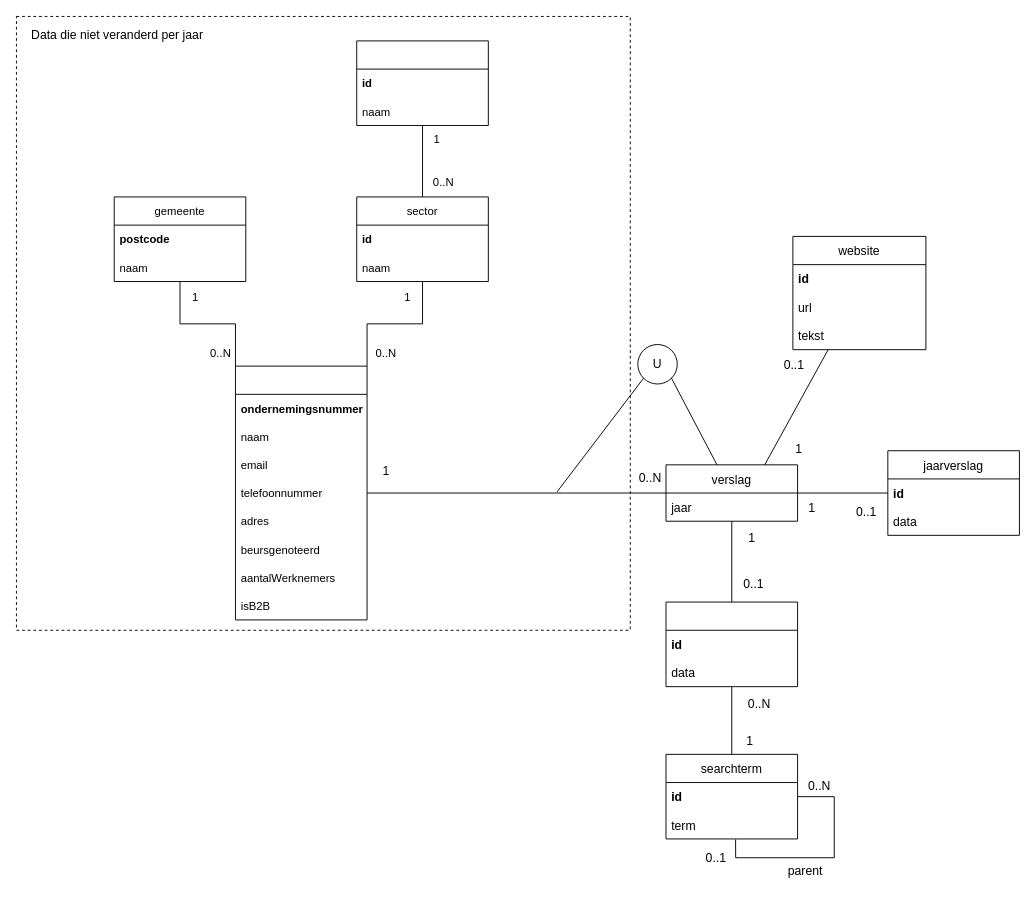
The diagram is 1036 pixels wide and 901 high, and some of its shapes have lost their labels. The shapes that lost their labels are listed below. From the top down, each one's box as (x1, y1, x2, y2) in pixels, then its label:
(356, 40, 488, 125): hoofdsector
(235, 365, 367, 620): kmo
(665, 601, 798, 687): codingtreeitem
